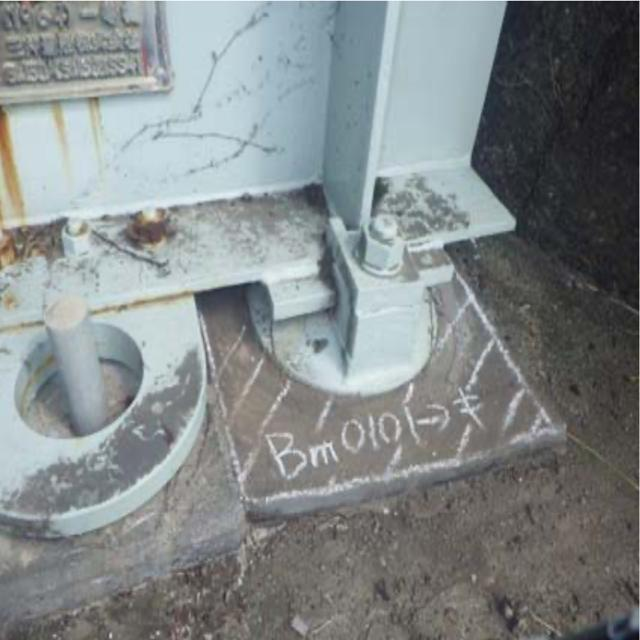corrosion: (0, 102, 181, 287)
